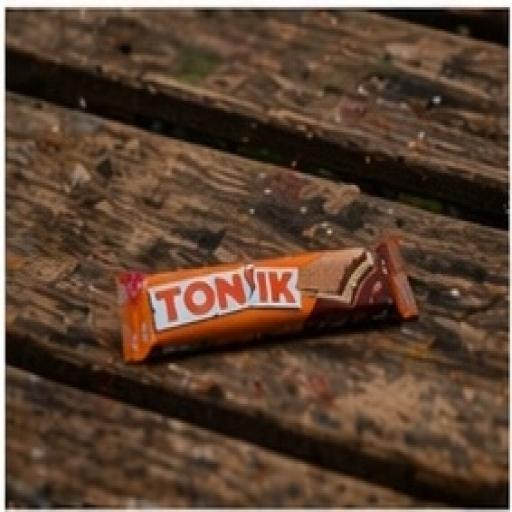tonik: (60, 190, 456, 418)
